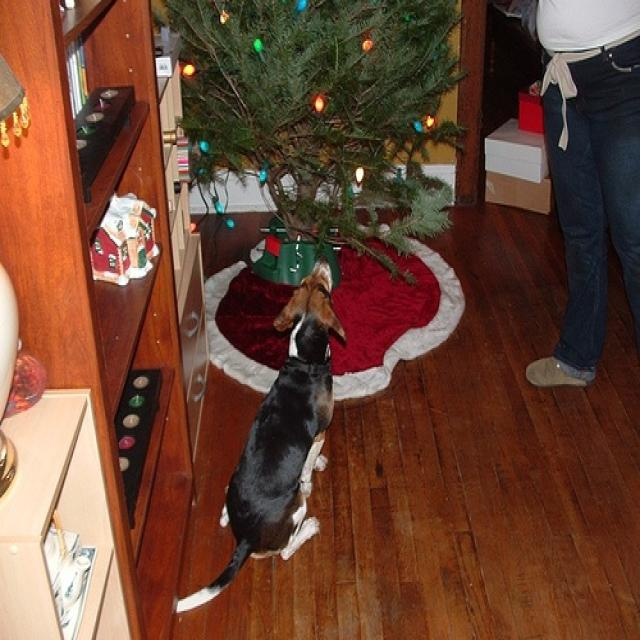dog: (171, 249, 347, 621)
person: (526, 5, 640, 390)
